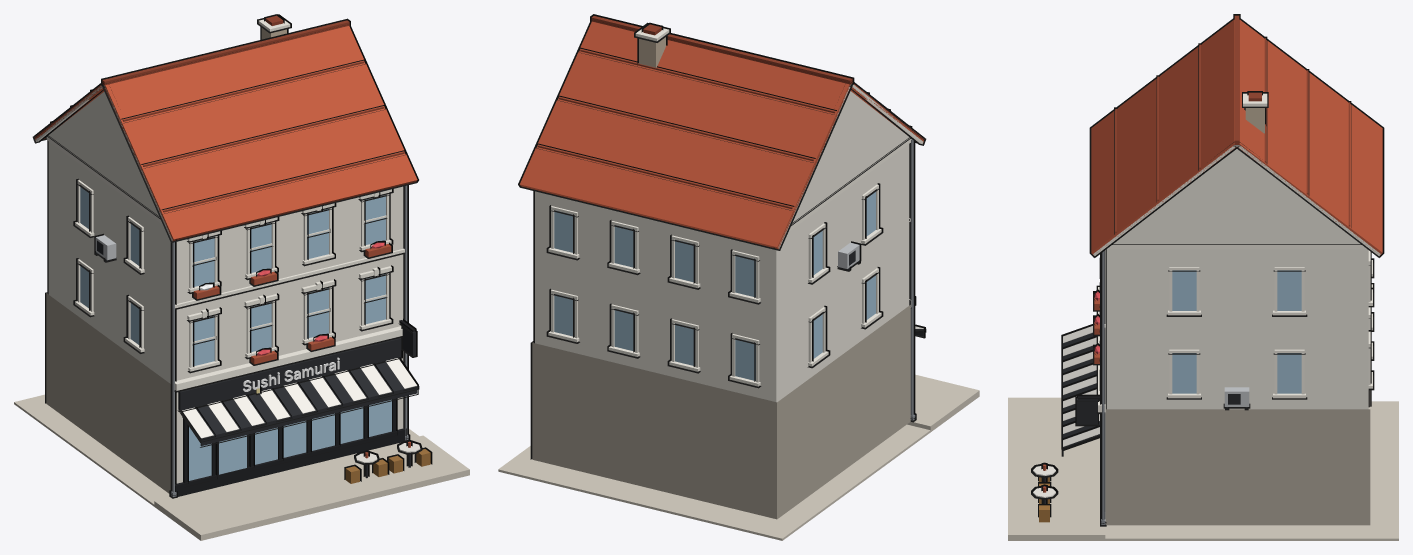
File: Dukkan_sushi_samurai.fbx
3 views of the same model, side by side, from view 1: azimuth 30°, elevation 25°; view 2: azimuth 150°, elevation 25°; view 3: azimuth 270°, elevation 25° (orthographic). The views are drawn at different scales.
Visible parts, largest first — view 1: Dukkan_sushi_samurai; view 2: Dukkan_sushi_samurai; view 3: Dukkan_sushi_samurai.
Part boxes in pixels (<box>): Dukkan_sushi_samurai: <box>14,14,469,540</box>; Dukkan_sushi_samurai: <box>498,14,979,540</box>; Dukkan_sushi_samurai: <box>1008,14,1398,540</box>.
Bounding box in the file's own units: 10.67 × 14.76 × 12.84.
